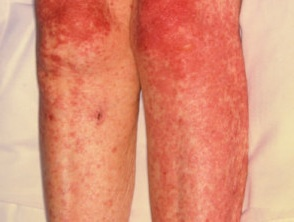SJS-TEN: (30, 0, 255, 222)
